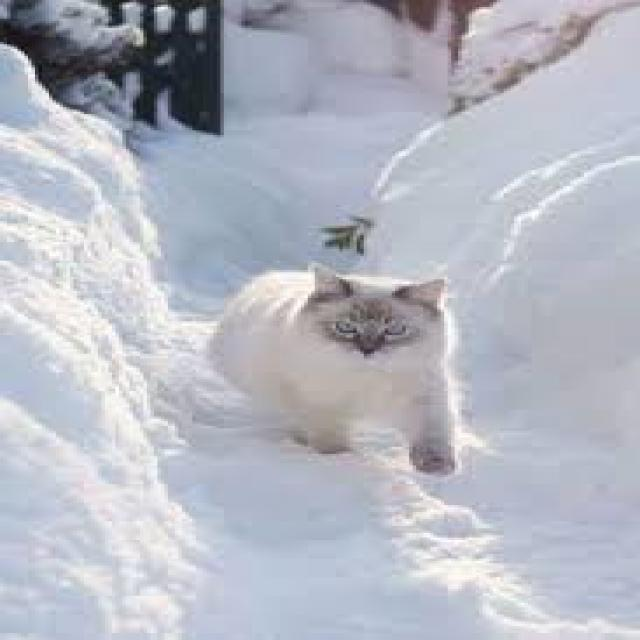Cat: (199, 255, 481, 481)
